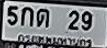letters: (20, 6, 35, 28), (36, 6, 50, 29), (67, 9, 81, 32), (81, 10, 94, 32), (7, 4, 19, 27)
province: (16, 33, 92, 47)
